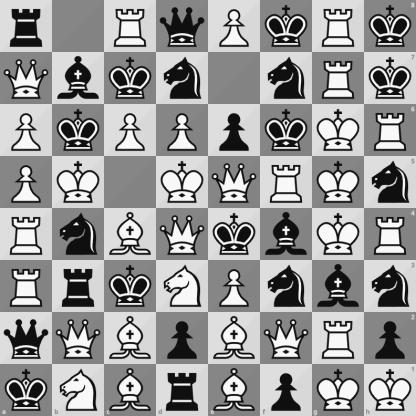B: (104, 364, 156, 416), (209, 364, 260, 416), (105, 209, 156, 260), (105, 313, 156, 364), (209, 313, 260, 364)
K: (312, 364, 364, 416), (364, 364, 416, 416), (53, 157, 104, 208), (157, 157, 208, 208), (313, 105, 364, 156), (313, 157, 364, 208), (313, 209, 364, 260)
N: (52, 364, 104, 416), (157, 261, 208, 312)
P: (1, 105, 52, 156), (1, 157, 52, 208), (105, 105, 156, 156), (157, 105, 208, 156), (209, 1, 260, 52), (209, 261, 260, 312)
Q: (1, 53, 52, 104), (53, 313, 104, 364), (157, 209, 208, 260), (209, 157, 260, 208), (261, 313, 312, 364)
R: (364, 104, 416, 156), (364, 209, 416, 260), (1, 209, 52, 260), (1, 261, 52, 312), (105, 1, 156, 52), (261, 157, 312, 208), (313, 1, 364, 52), (313, 53, 364, 104), (313, 313, 364, 364)
b: (53, 53, 104, 104), (261, 209, 312, 260), (313, 261, 364, 312)
board: (0, 0, 415, 415)
k: (0, 364, 52, 416), (364, 0, 416, 52), (364, 52, 416, 104), (53, 105, 104, 156), (105, 53, 156, 104), (105, 261, 156, 312), (209, 209, 260, 260), (261, 1, 312, 52), (261, 105, 312, 156)
n: (364, 156, 416, 209), (364, 260, 416, 312), (53, 209, 104, 260), (157, 53, 208, 104), (261, 53, 312, 104), (261, 261, 312, 312)
p: (260, 364, 312, 416), (364, 312, 416, 364), (157, 313, 208, 364), (209, 105, 260, 156)
q: (1, 313, 52, 364), (157, 1, 208, 52)
r: (156, 364, 209, 416), (1, 1, 52, 52), (53, 261, 104, 312)
